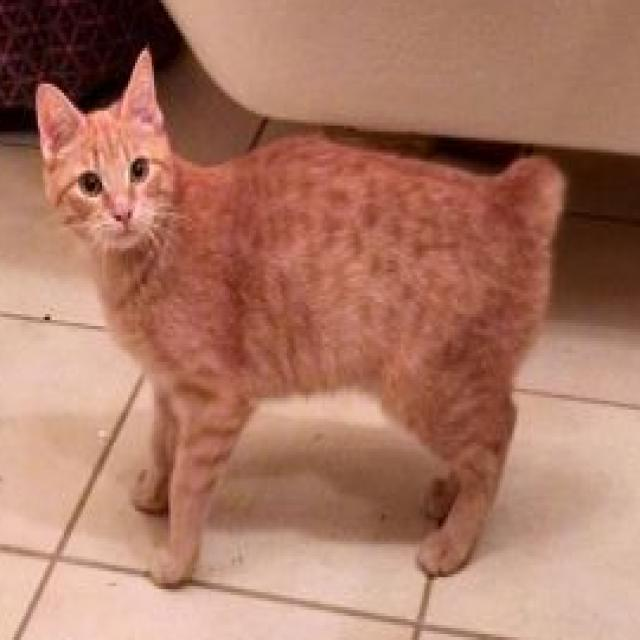American Bobtail: (32, 43, 570, 592)
